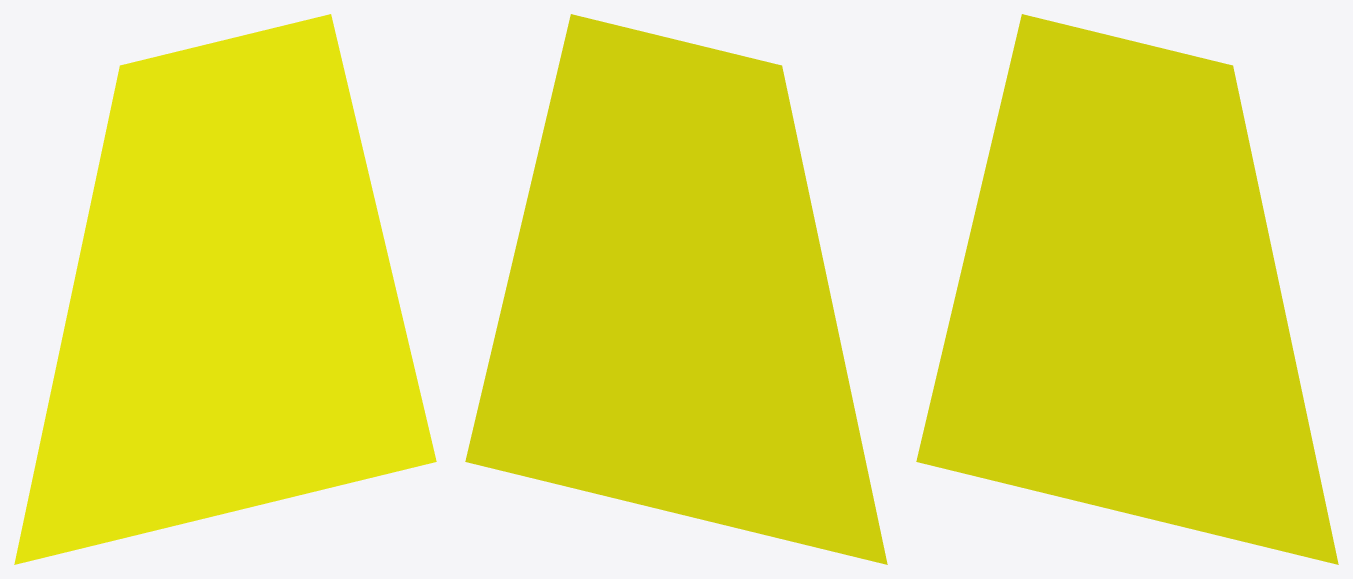
The model's file is wide.gltf.
3 views of the same model, side by side, from view 1: azimuth 30°, elevation 25°; view 2: azimuth 150°, elevation 25°; view 3: azimuth 330°, elevation 25° (orthographic).
Bounding box in the file's own units: 0.7 × 0.75 × 0.
Materials: 1 (1 with a texture image).
